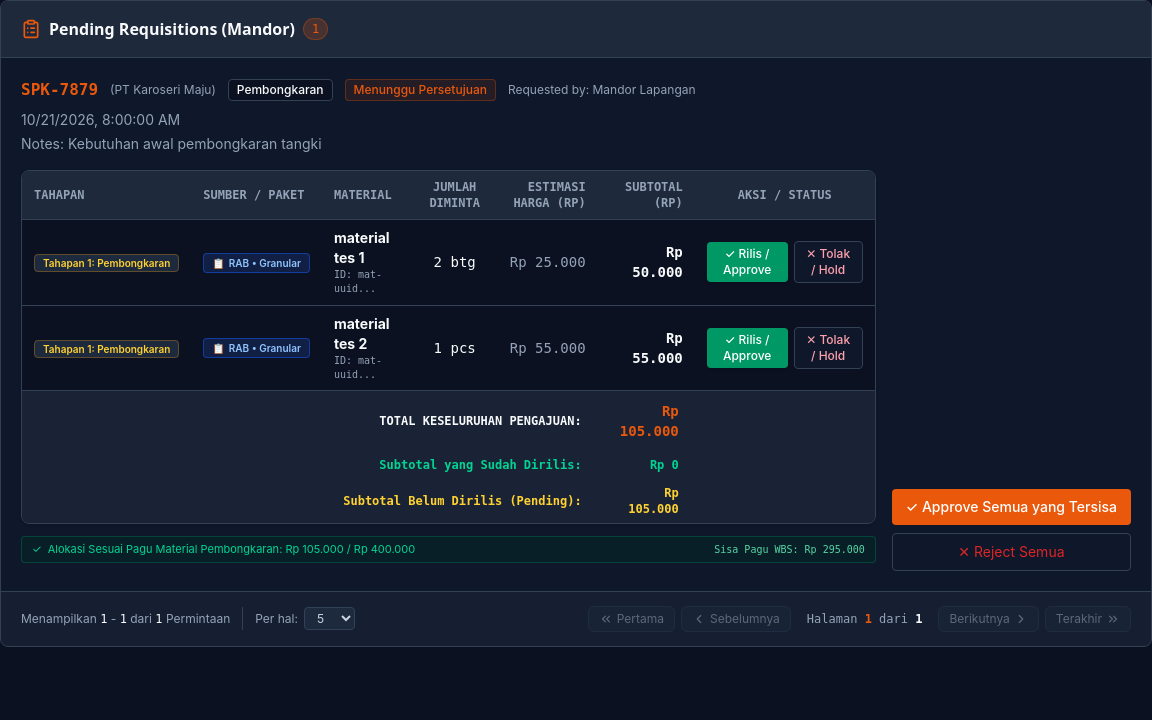
Component: RequisitionApproval (Granular Item-Level Material Approval) › clicking Approve Semua yang Tersisa approves all items, deducts stock, and marks requisition COMPLETED
Expected: the text "SPK-7879" is shown, x1=21 y1=78 x2=98 y2=102
Click Approve Semua yang Tersisa on card footer
Click the button "✓ Approve Semua yang Tersisa" at (1011, 507), box x1=892 y1=489 x2=1131 y2=525
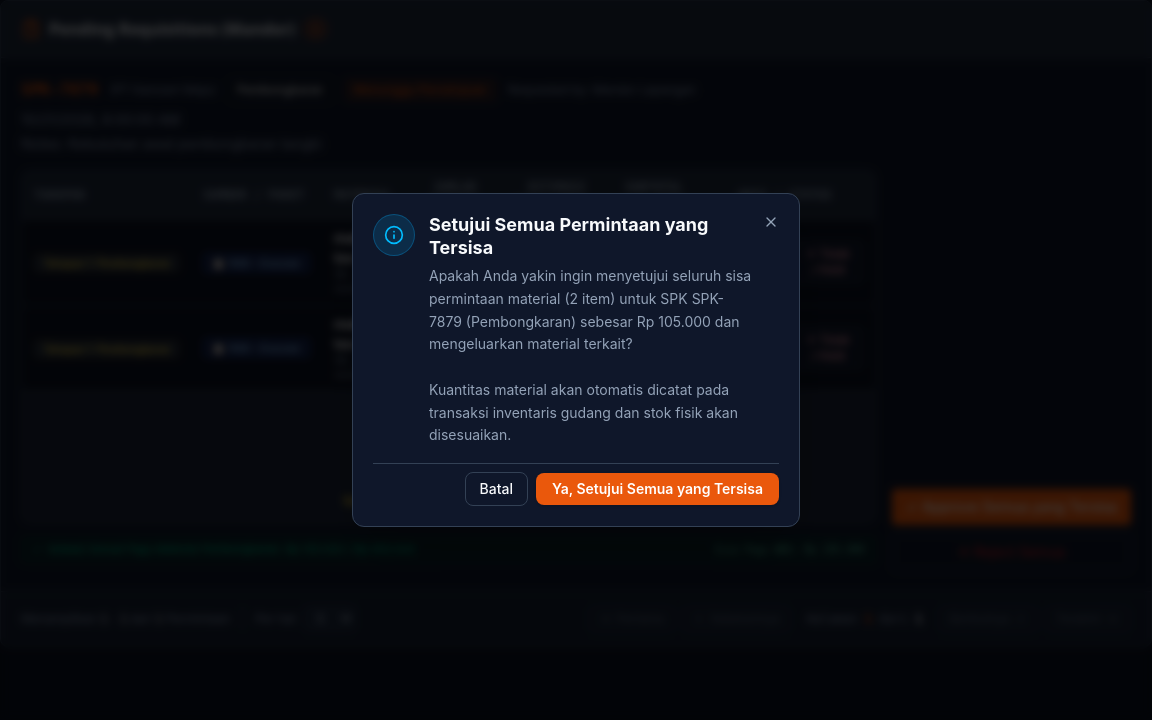
Now the heading "Setujui Semua Permintaan yang Tersisa" is shown, box x1=429 y1=214 x2=755 y2=259
Now the text "seluruh sisa permintaan material (2 item)" is shown, box x1=429 y1=267 x2=751 y2=443
Confirm approval
Click the button "Ya, Setujui Semua yang Tersisa" at (658, 489), box x1=536 y1=473 x2=779 y2=505
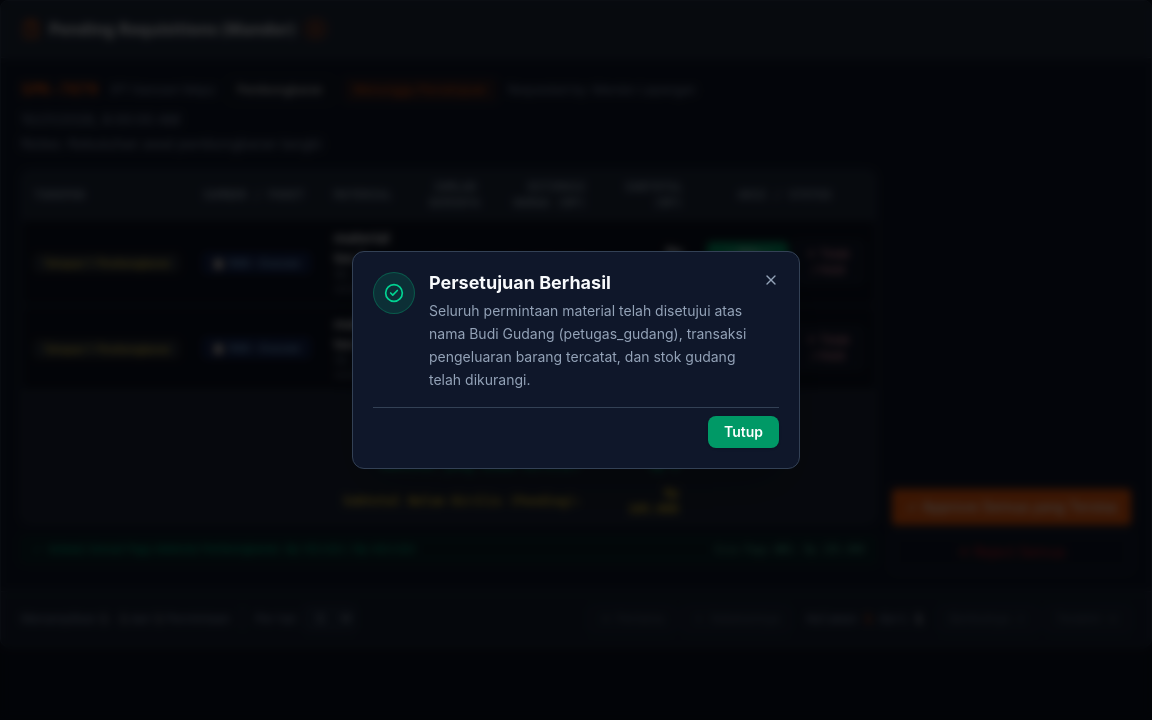
Now the heading "Persetujuan Berhasil" is shown, box x1=429 y1=272 x2=611 y2=293
